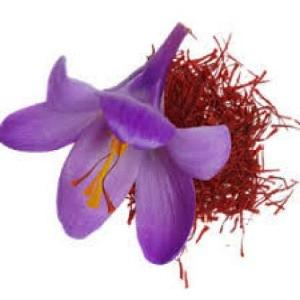Saffron: (6, 22, 228, 268)
